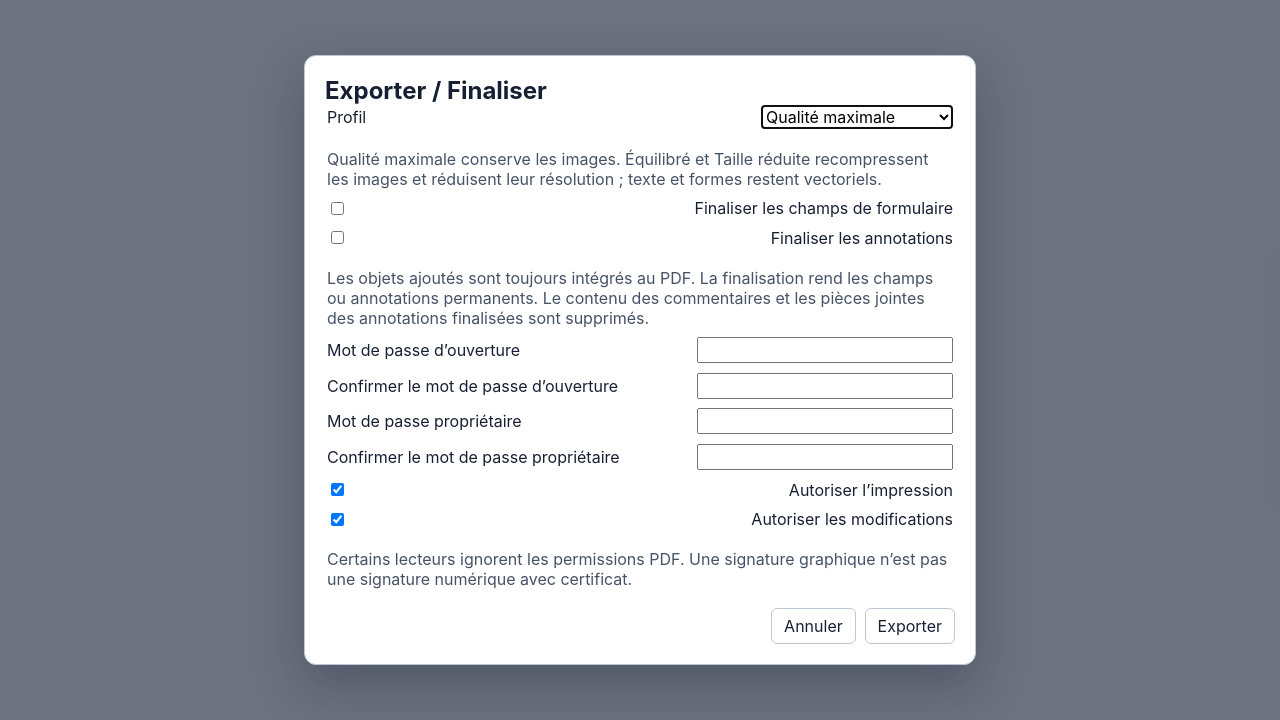
Test: AdvancedExportDialog security › rejects mismatched passwords and restrictions without an owner
Step 1. Type "test" into the password field labelled "Mot de passe d’ouverture" → (825, 350), box x1=697 y1=337 x2=953 y2=363
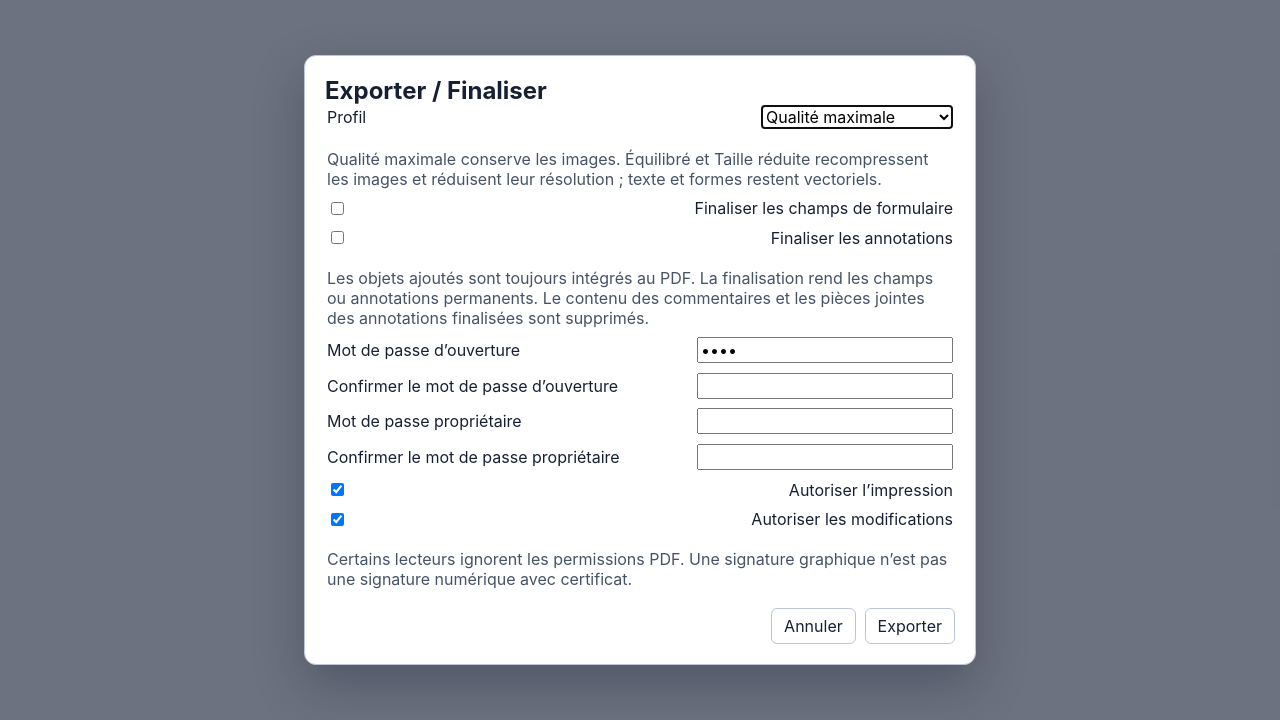
Step 2. Click the button "Exporter" → click(910, 626), box x1=864 y1=608 x2=955 y2=644
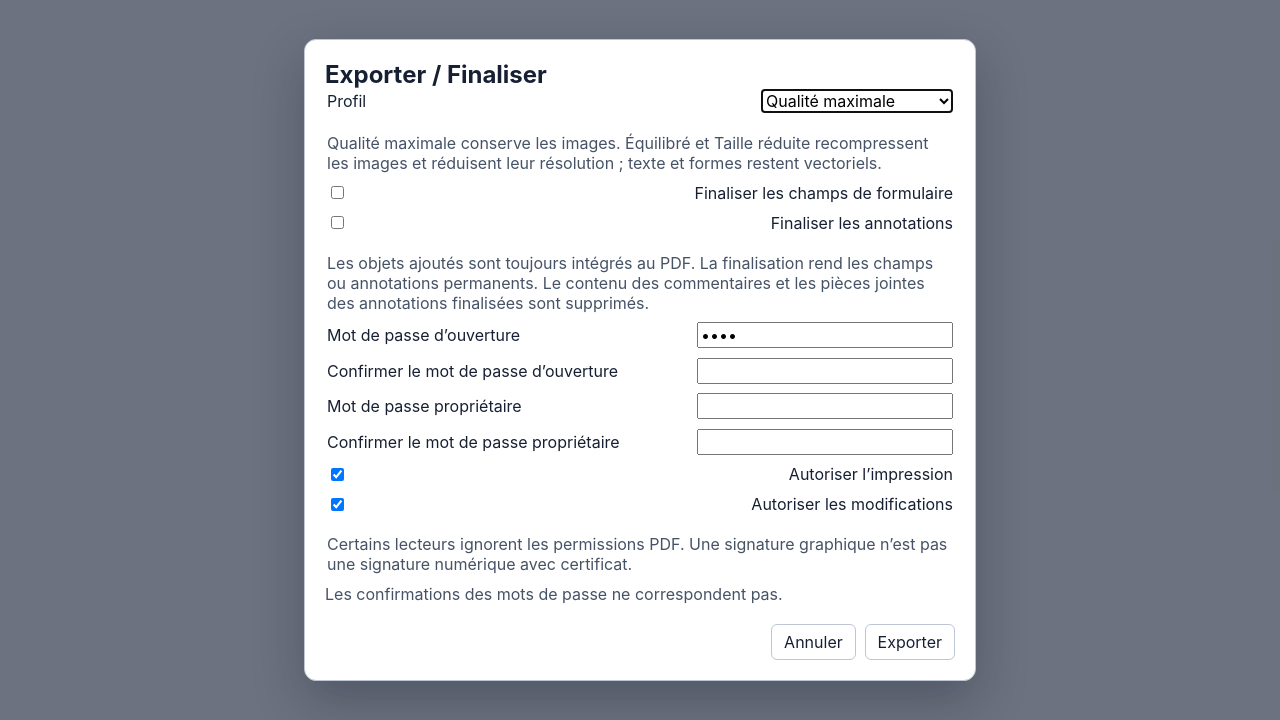
expect the message shows "confirmations": met, box x1=325 y1=584 x2=783 y2=604
Step 3. Type "test" into the password field labelled "Confirmer le mot de passe d’ouverture" → (825, 371), box x1=697 y1=358 x2=953 y2=384
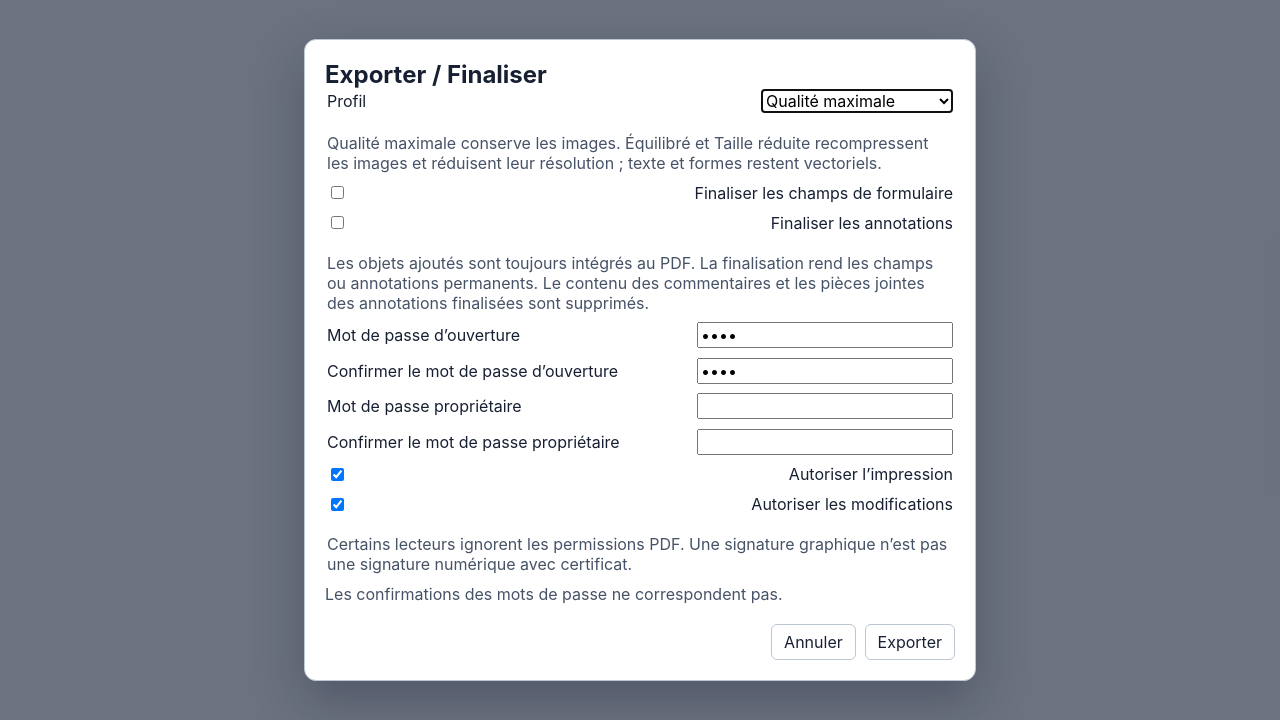
Step 4. Click the checkbox labelled "Autoriser les modifications" → click(338, 504), box x1=331 y1=498 x2=344 y2=511
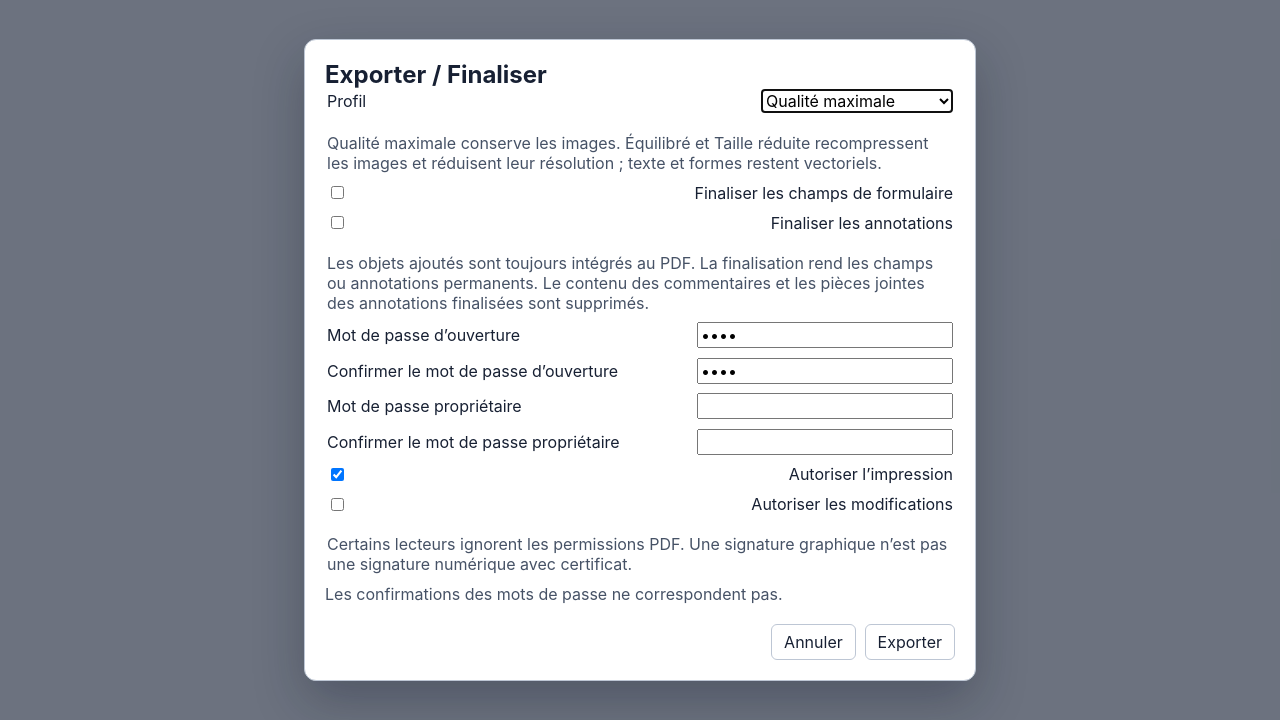
Step 5. Click the button "Exporter" → click(910, 642), box x1=864 y1=624 x2=955 y2=660
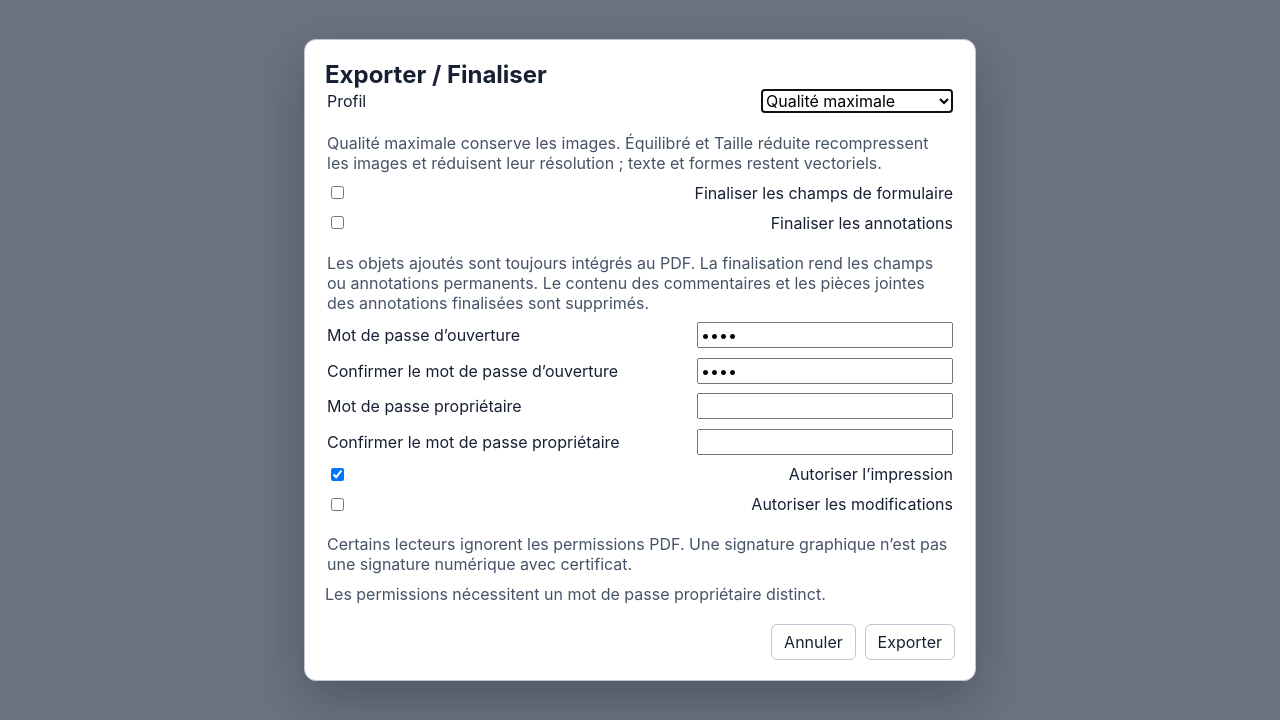
expect the message shows "propriétaire distinct": met, box x1=325 y1=584 x2=826 y2=604
